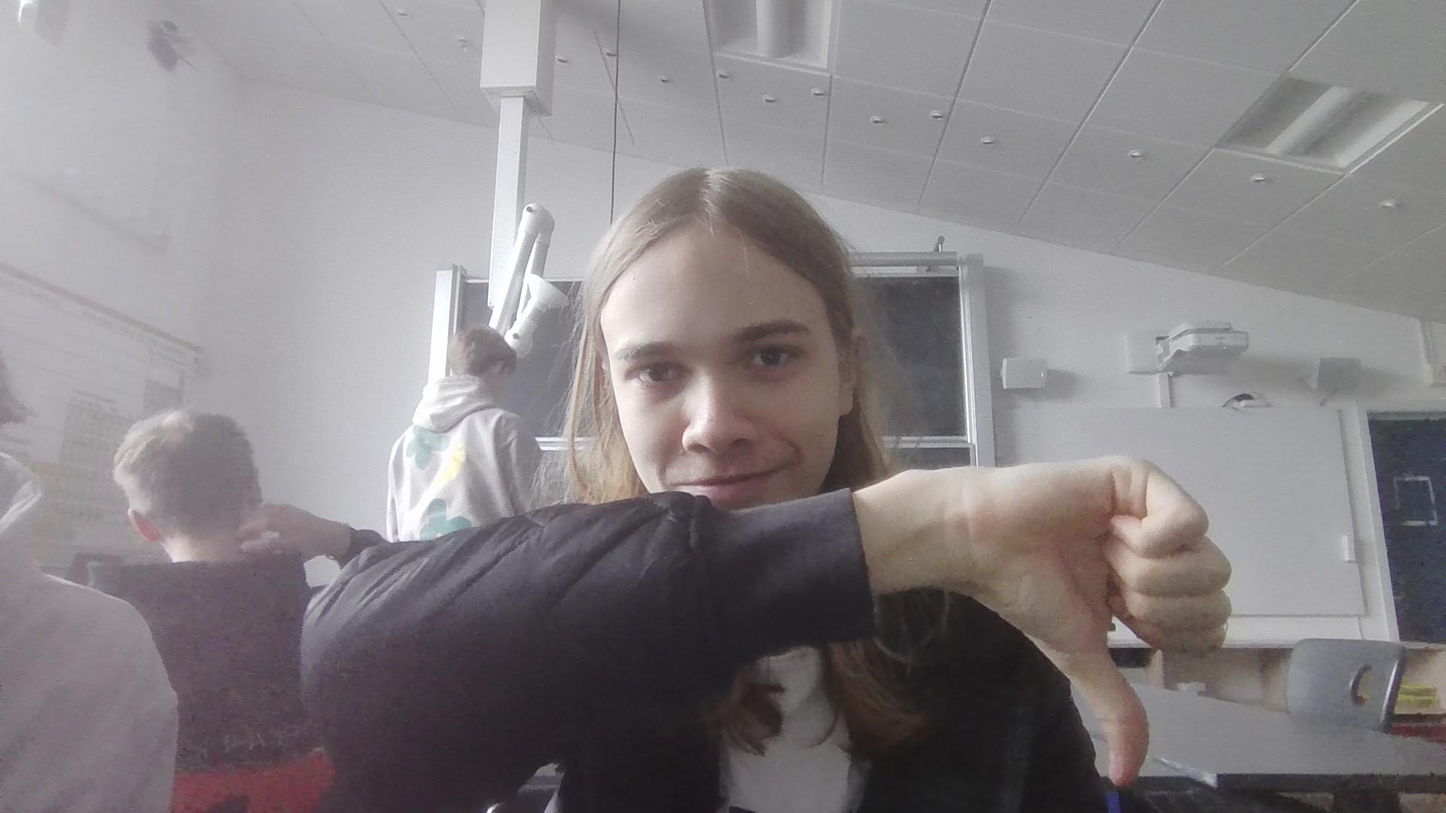thumbs down: (928, 433, 1231, 793)
